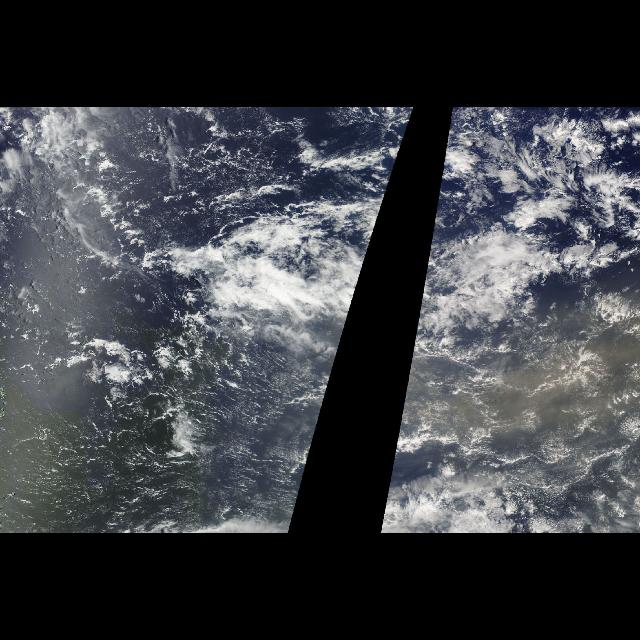Sugar: (9, 349, 339, 527), (386, 349, 634, 496)
